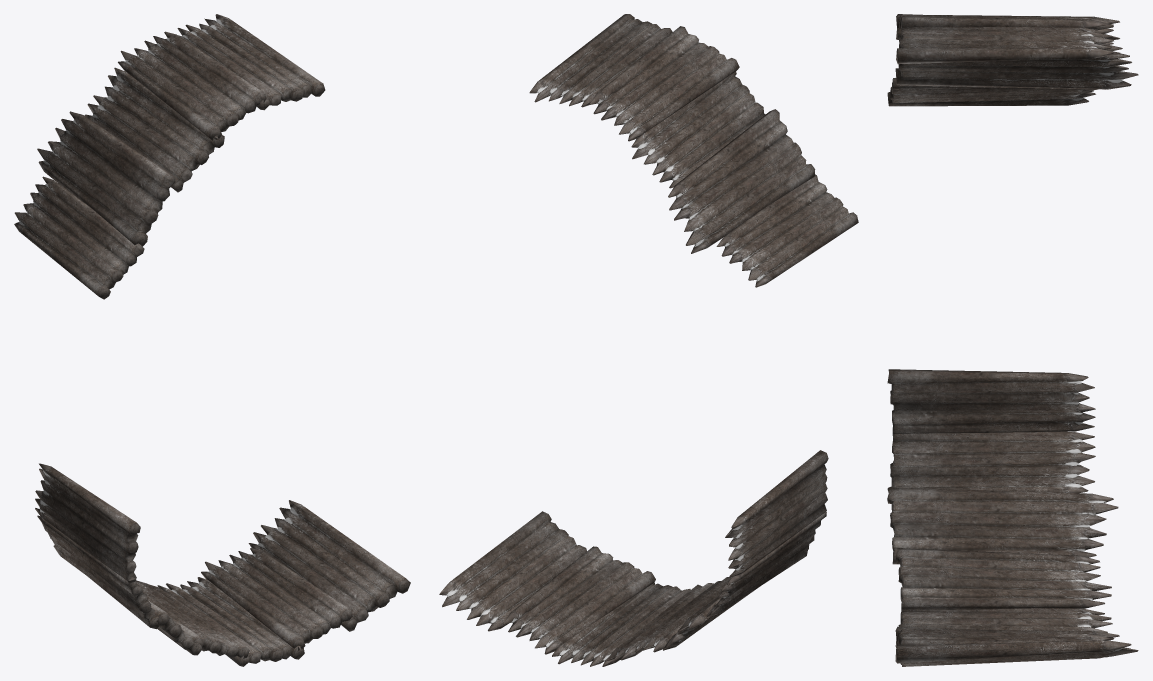
File: PalisadeSnow_Grp_01.fbx
3 views of the same model, side by side, from view 1: azimuth 30°, elevation 25°; view 2: azimuth 150°, elevation 25°; view 3: azimuth 270°, elevation 25° (orthographic). The views are drawn at different scales.
Visible parts, largest first — view 1: Palisade_Snow_Grp_01; view 2: Palisade_Snow_Grp_01; view 3: Palisade_Snow_Grp_01.
Part boxes in pixels (x1,y1,x2,y2): Palisade_Snow_Grp_01: (14,14,410,666); Palisade_Snow_Grp_01: (439,14,858,666); Palisade_Snow_Grp_01: (887,14,1138,666).
Bounding box in the file's own units: 51.14 × 88.77 × 32.88.
1 material, 1 textured.
